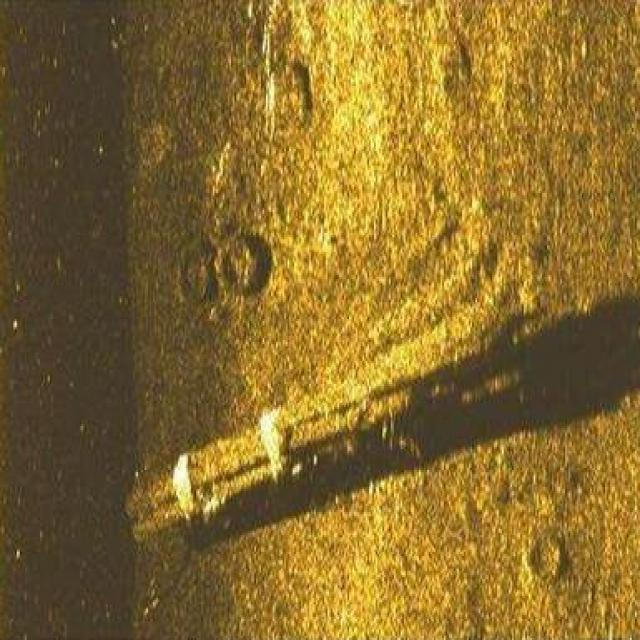other: (120, 304, 534, 542)
